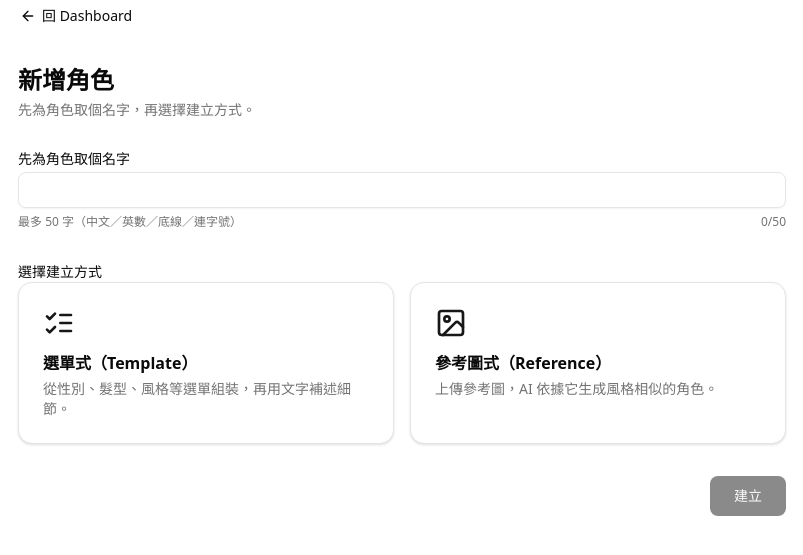
it: NewCharacterPage › shows the inline duplicate-name error on CONFLICT_DUPLICATE_NAME and stays on the page
Step 1. Type "小雅" into the field labelled "先為角色取個名字" → (402, 190), box [18, 172, 786, 208]
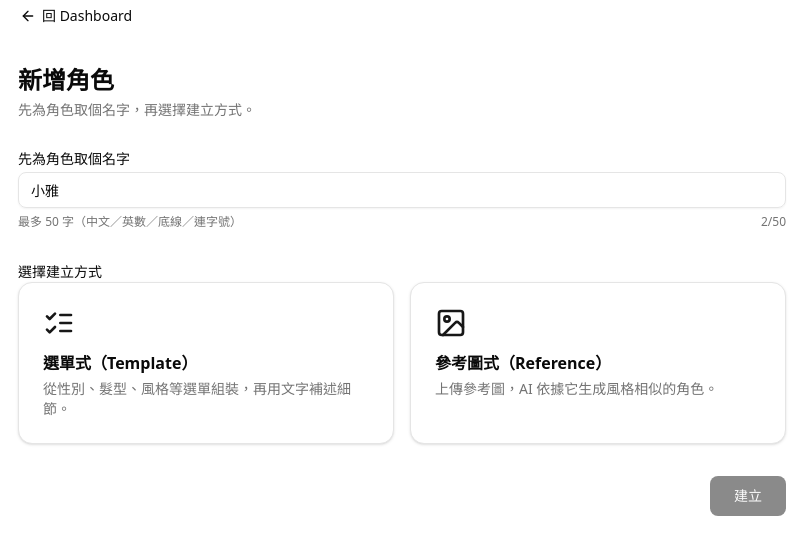
Step 2. Click the radio button with test id "input-mode-card-template" → (59, 323), box [18, 282, 394, 444]
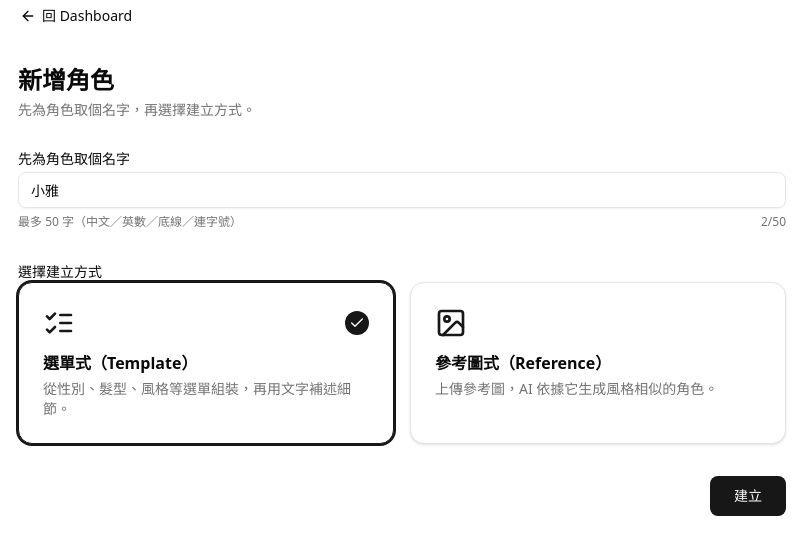
Step 3. Click the button "建立" → (748, 496), box [710, 476, 786, 516]
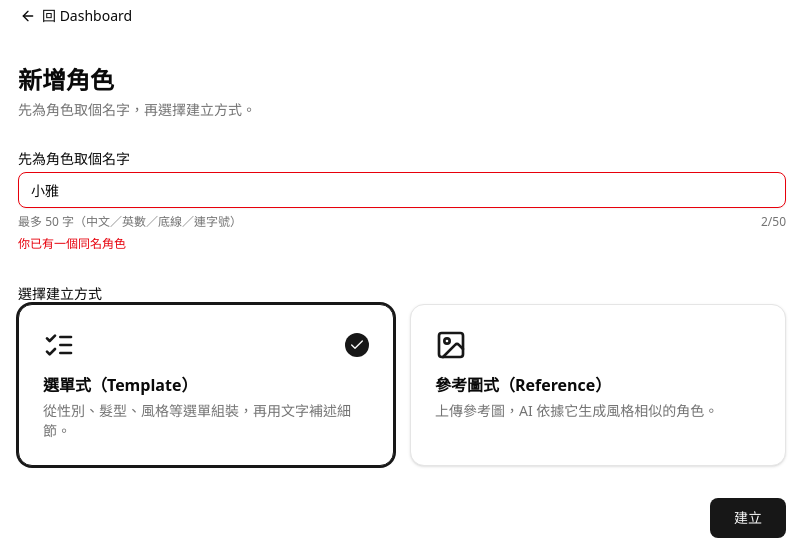
Expected: the text "你已有一個同名角色" is shown, [18, 235, 126, 252]
